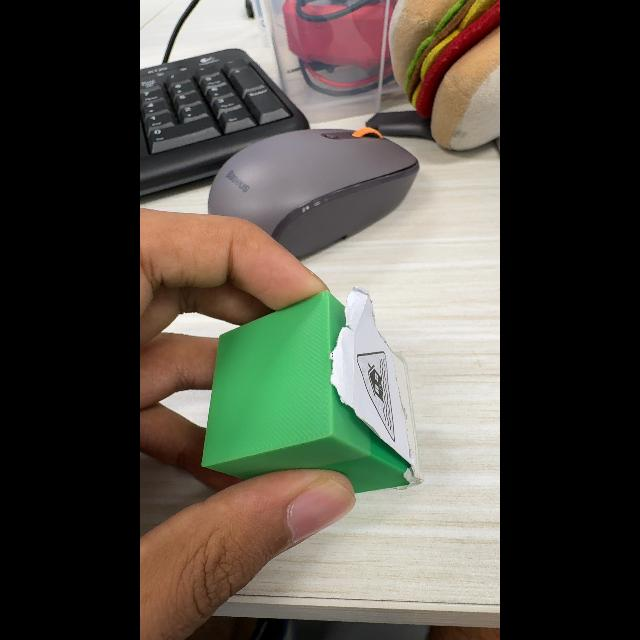Tsunami: (358, 352, 394, 442)
